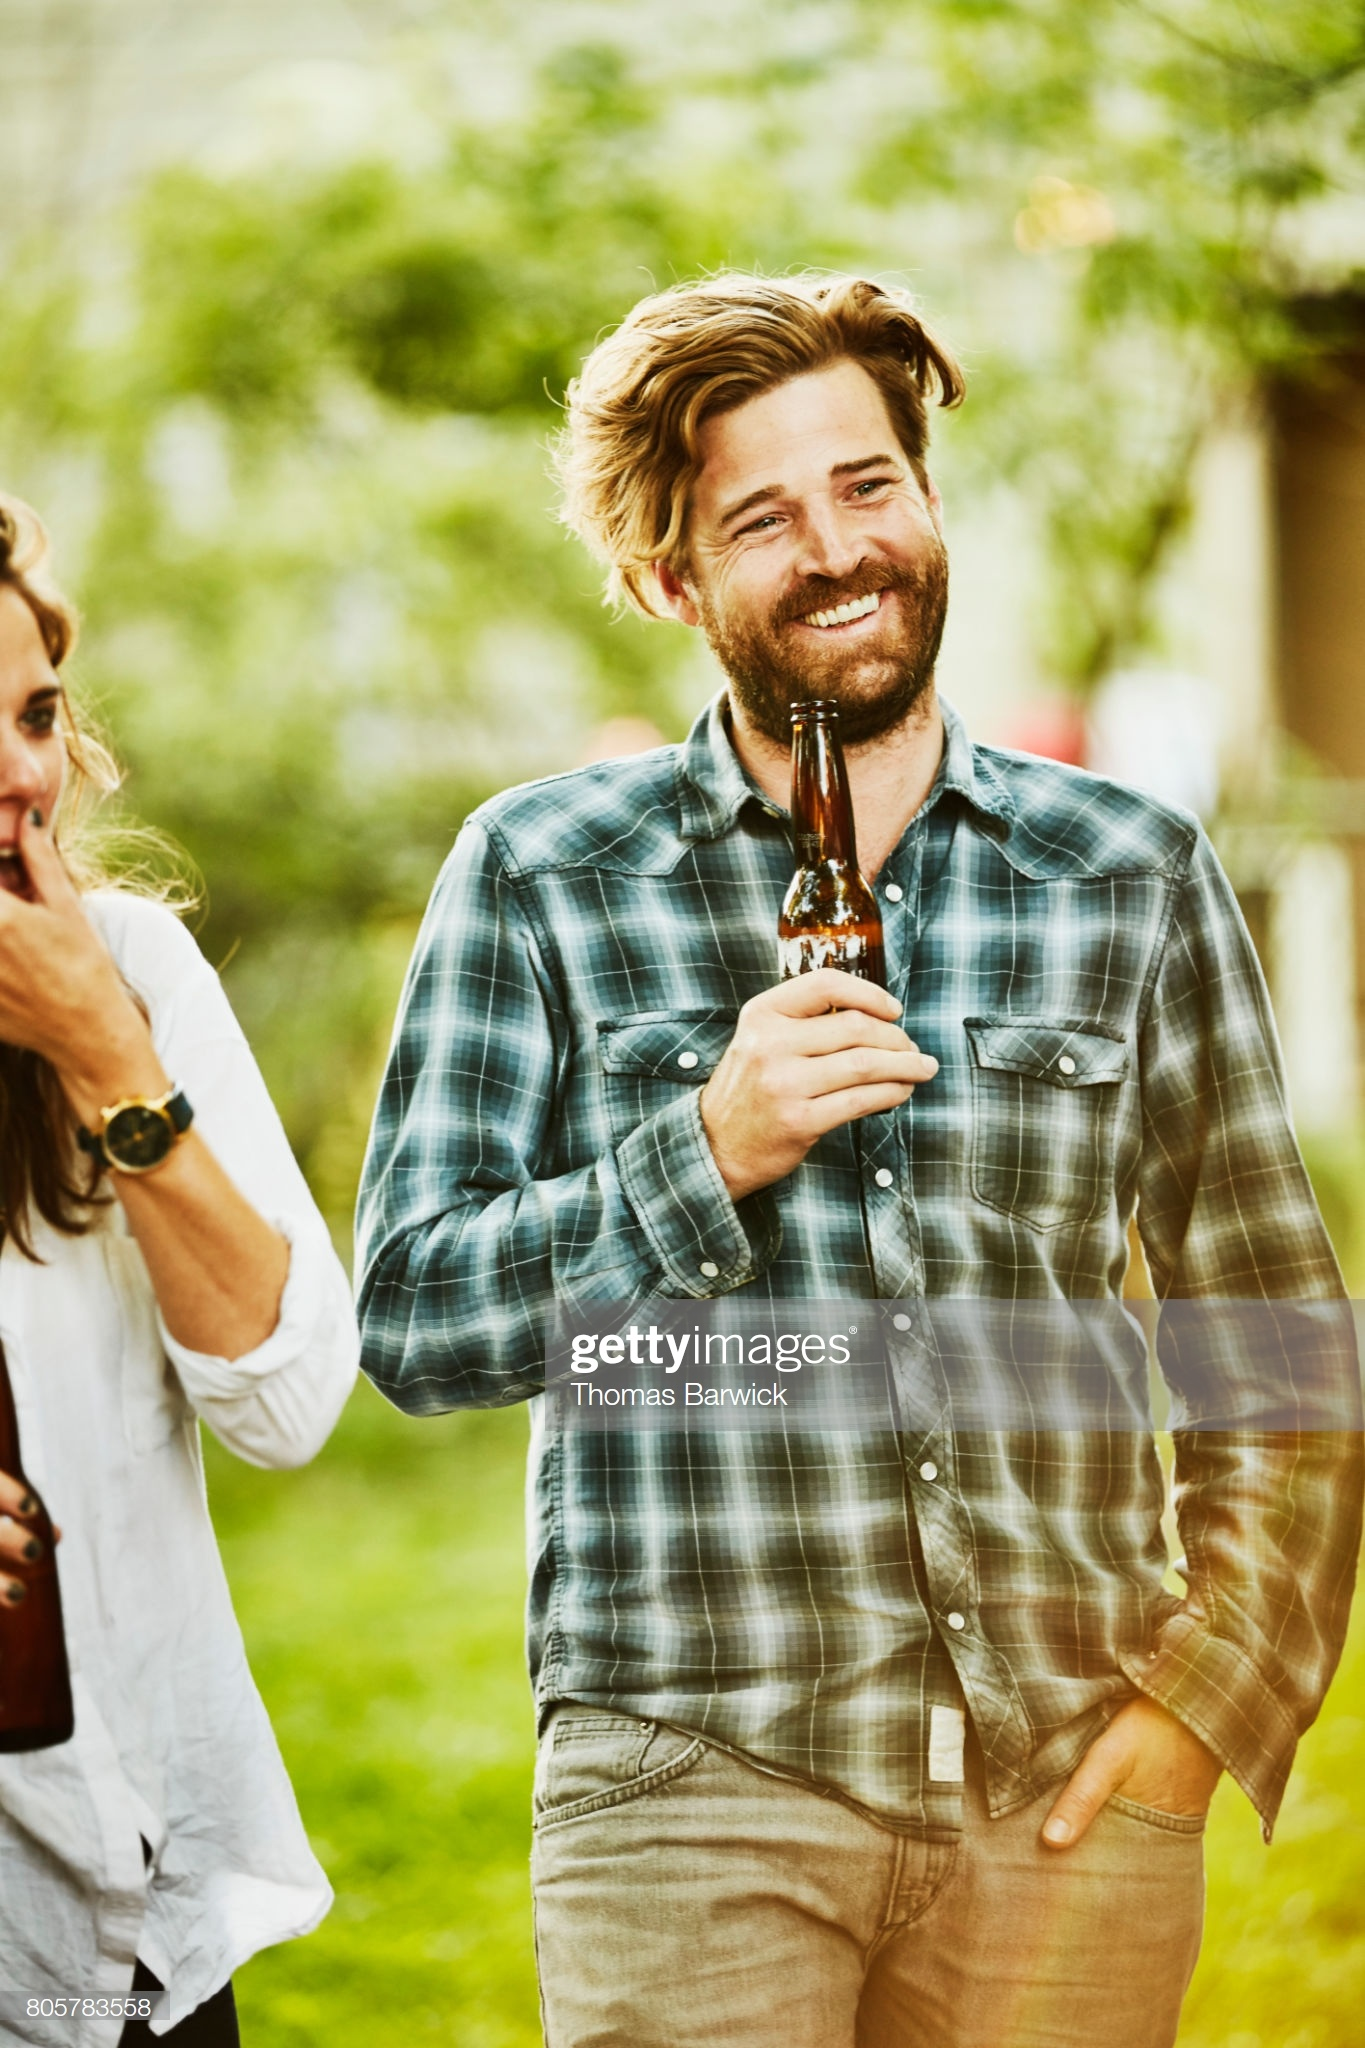beerBottle: (759, 688, 887, 1061)
